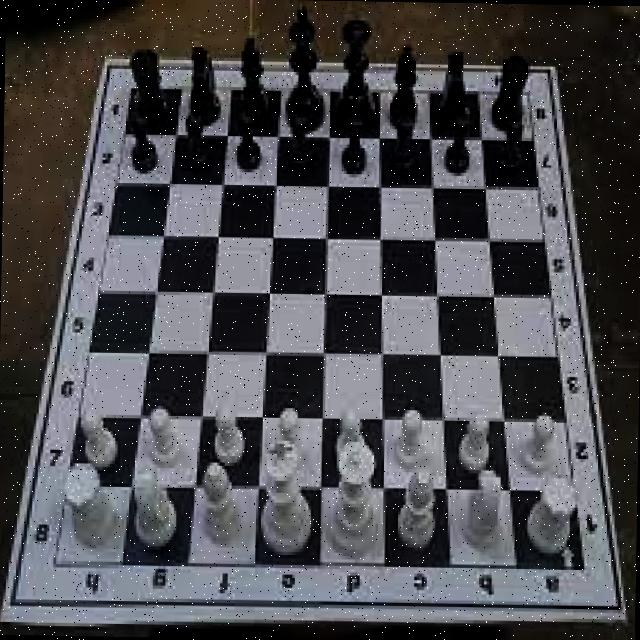corners: (610, 596, 630, 624), (542, 58, 564, 81), (0, 607, 11, 629), (102, 52, 115, 68)
